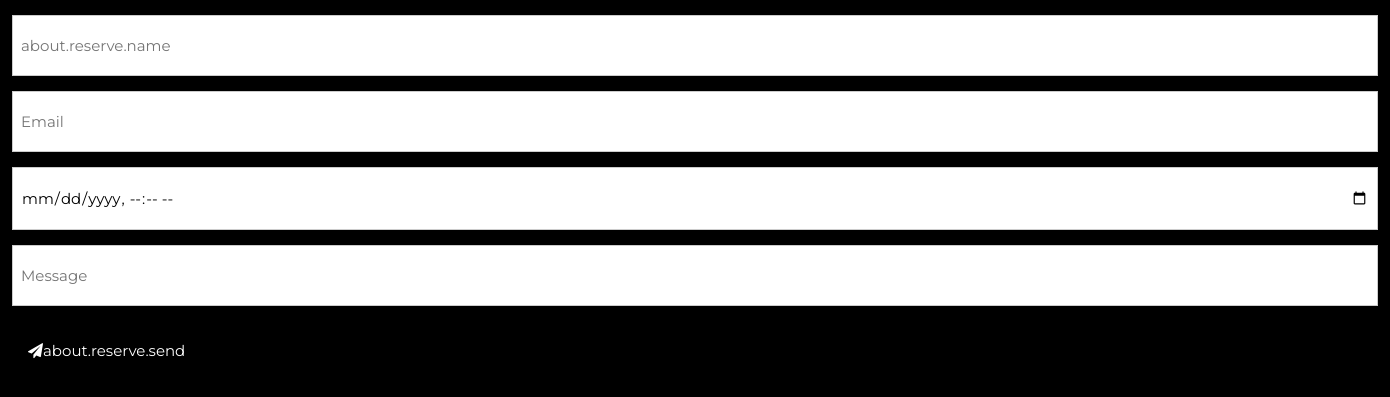
Test case: ReservationForm › disables fields while submitting
Type "John" into the field labelled "name" at point(695, 46), box [12, 15, 1378, 76]
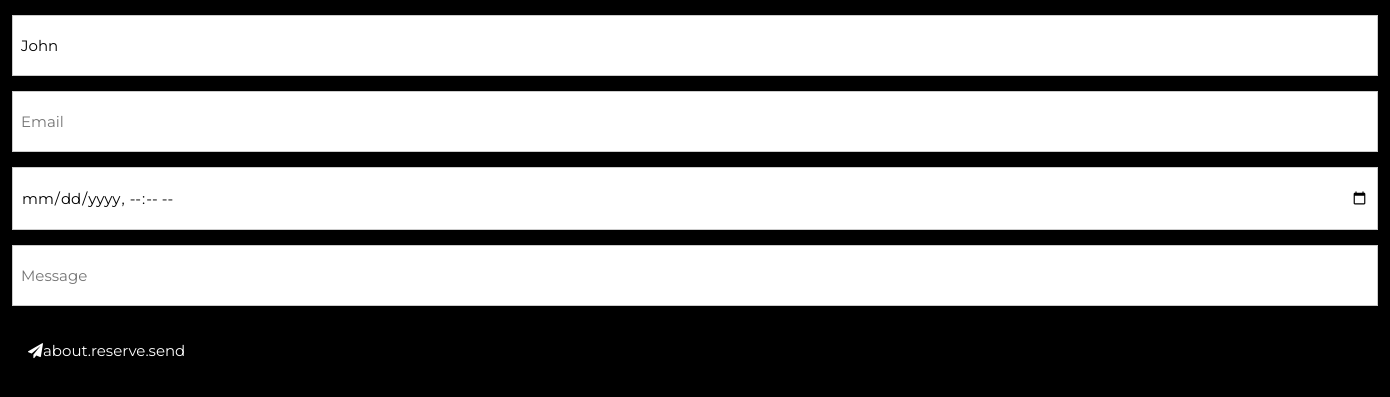
Type "john@test.com" into the field labelled "Email" at point(695, 122), box [12, 91, 1378, 152]
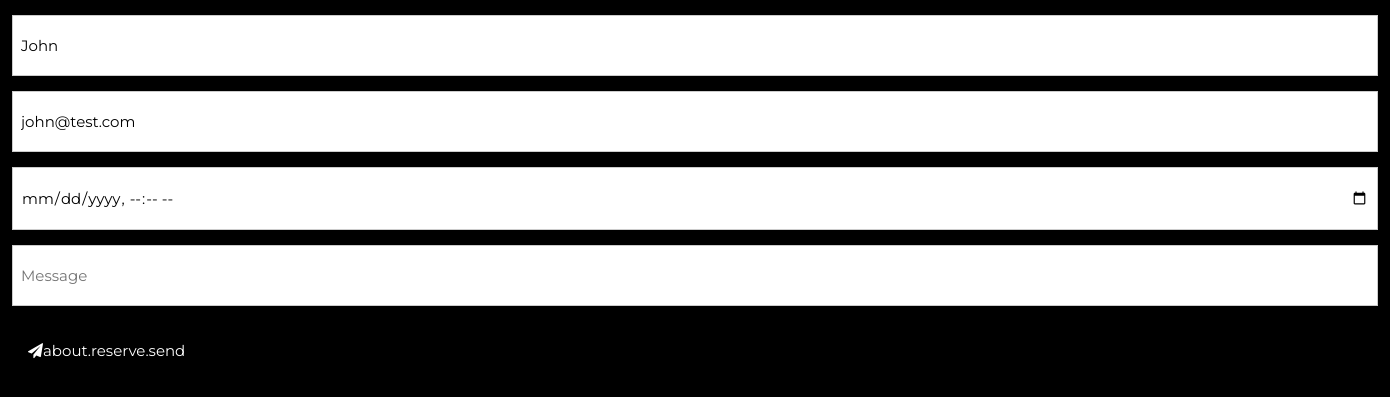
Type "2026-07-28T18:00" into the field named "date" at point(695, 198), box [12, 167, 1378, 230]
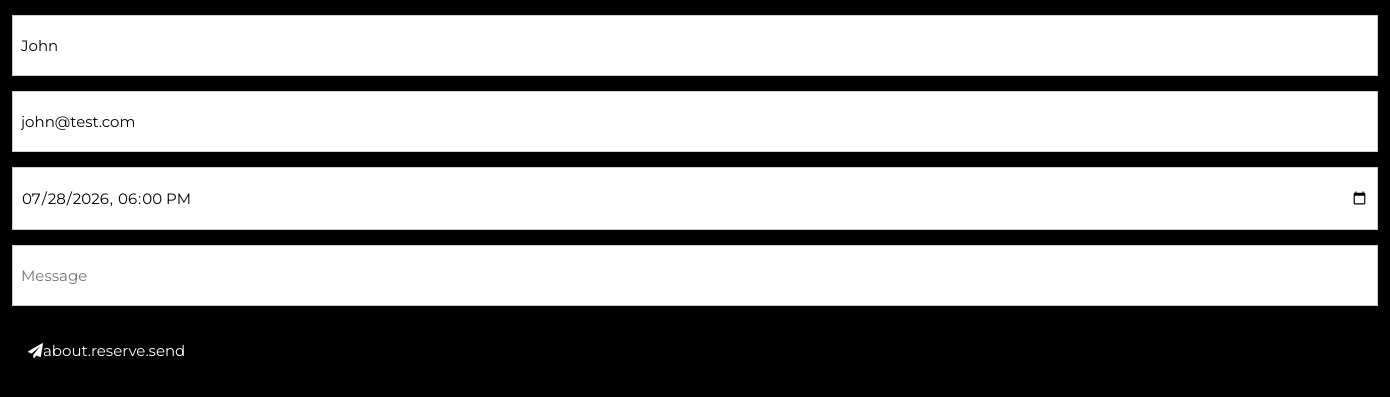
Type "Outdoors" into the field labelled "Message" at point(695, 276), box [12, 245, 1378, 306]
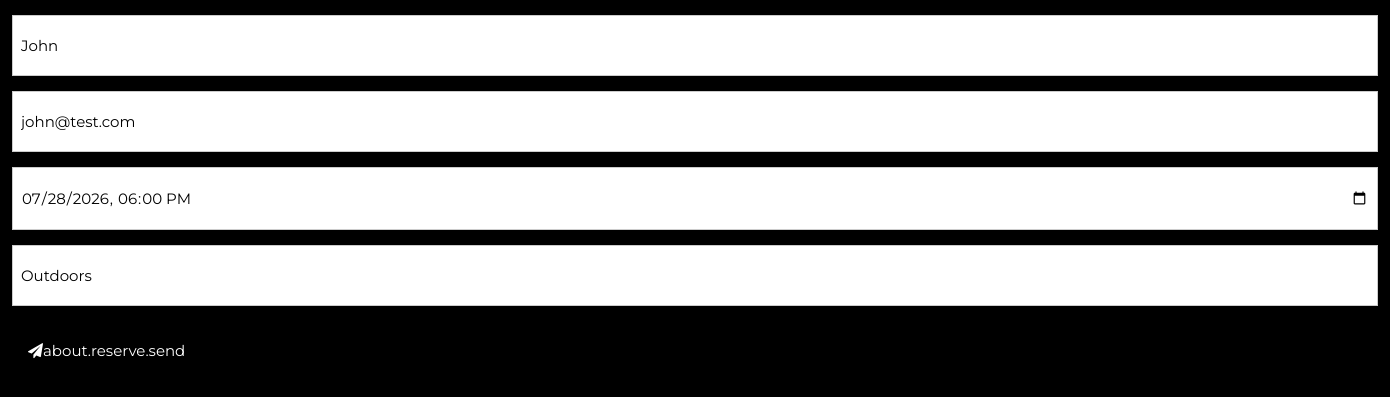
Click the button at point(107, 350), box [12, 321, 201, 380]
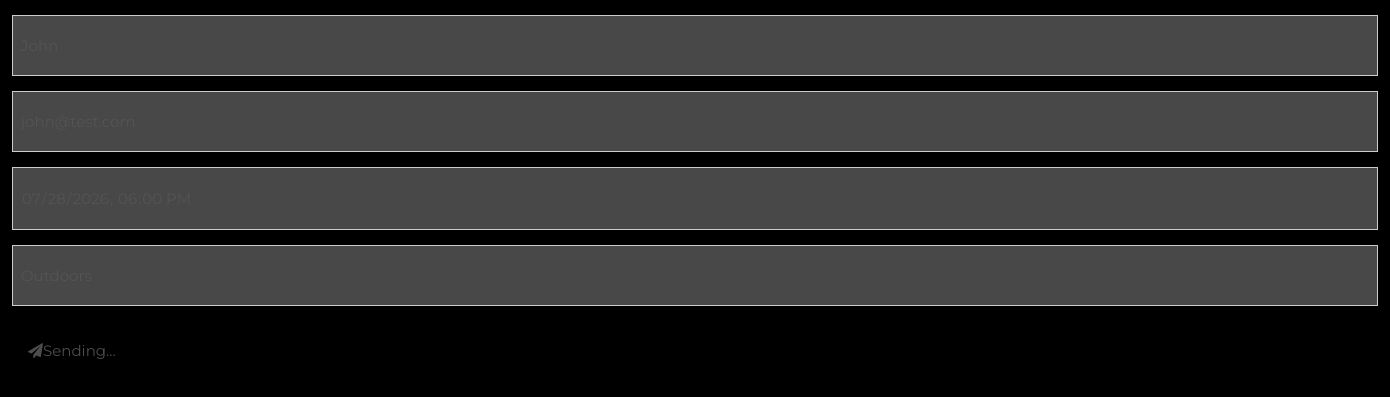
Expected: the field named "name" is disabled, [12, 15, 1378, 76]
Expected: the button is disabled, [12, 321, 132, 380]
